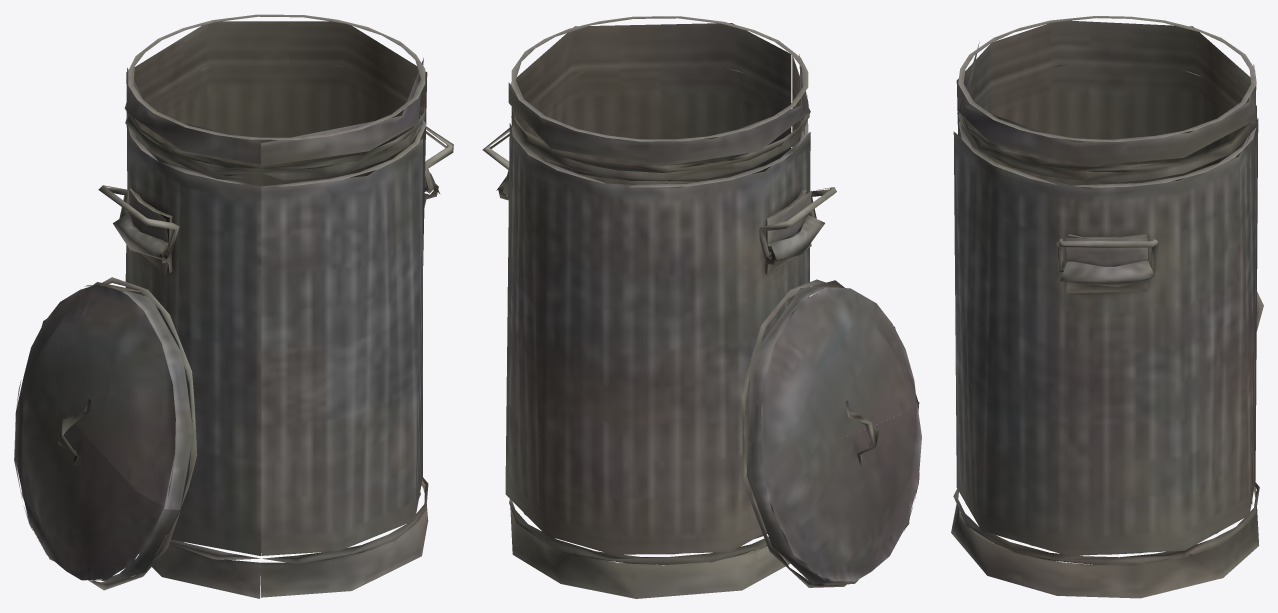
The model's file is trash_can.glb.
3 renders of one model, left to right at view 1: azimuth 30°, elevation 25°; view 2: azimuth 150°, elevation 25°; view 3: azimuth 270°, elevation 25°, orthographic.
Visible parts, largest first — view 1: trash_can; view 2: trash_can; view 3: trash_can.
Boxes of the visible parts, x1,y1,x2,y2 form: trash_can: (14,14,453,598); trash_can: (482,16,921,598); trash_can: (951,16,1263,598).
Bounding box in the file's own units: 0.7788 × 0.9062 × 0.5644.
1 material, 1 textured.
